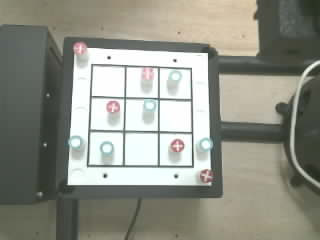blue circle: (68, 136, 83, 149), (100, 141, 113, 155), (199, 138, 212, 151), (143, 99, 156, 111), (168, 70, 181, 81)
board: (66, 46, 213, 187)
cells: (89, 132, 122, 165), (125, 133, 157, 165), (160, 134, 192, 165), (159, 100, 191, 131), (91, 98, 123, 129), (125, 99, 157, 130), (92, 66, 124, 96), (126, 67, 157, 97), (160, 68, 190, 98)
grid: (87, 64, 193, 167)
red cross: (170, 139, 184, 152), (73, 42, 86, 54), (200, 169, 212, 182), (142, 67, 153, 80), (106, 101, 119, 112)
